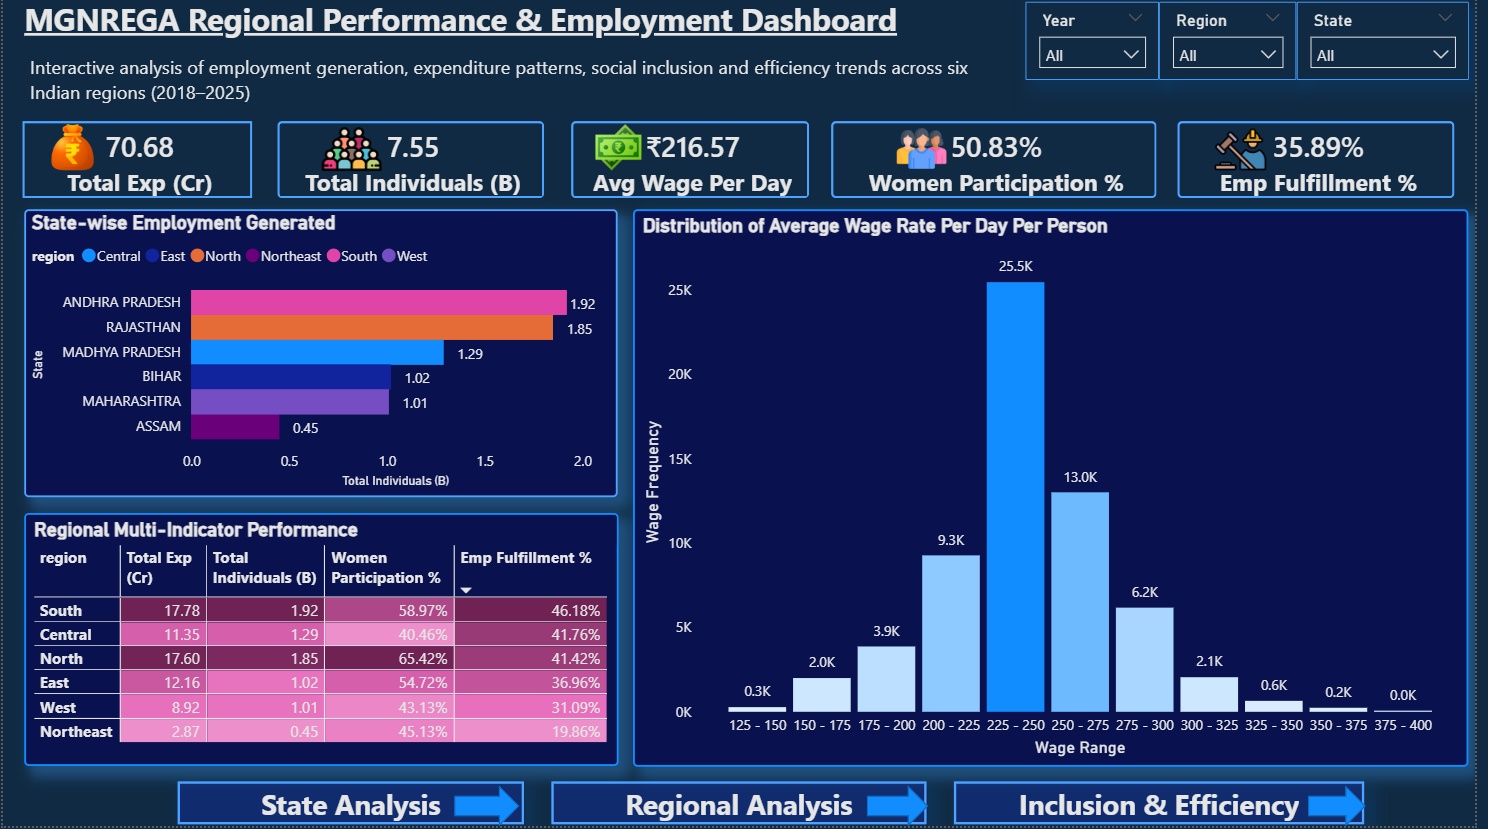

The page's visual inventory and layout, read from the dashboard file:
{"tool":"powerbi","page":{"name":"Main Dashboard","canvas":[1280,720],"ordinal":0},"visuals":[{"type":"cardVisual","fields":{"Data":["mgnrega_state_year_dataset.Total Exp (Cr)"]},"box":[0,90.2,234.8,101.7],"z":0},{"type":"cardVisual","fields":{"Data":["mgnrega_state_year_dataset.Total Individuals (B)"]},"box":[221.2,90.2,266.3,101.7],"z":1000},{"type":"cardVisual","fields":{"Data":["mgnrega_state_year_dataset.Avg Wage"]},"box":[476.7,90,241.7,101.7],"z":2000},{"type":"cardVisual","fields":{"Data":["mgnrega_state_year_dataset.Women Participation %"]},"box":[703.4,90.2,317.6,101.7],"z":3000},{"type":"cardVisual","fields":{"Data":["mgnrega_state_year_dataset.Employment Fulfillment %"]},"box":[1004.3,90.2,275.7,101.7],"z":4000},{"type":"barChart","title":"State-wise Employment Generated","fields":{"Category":["mgnrega_state_year_dataset.state_name"],"Y":["mgnrega_state_year_dataset.Total Individuals (B)"],"Series":["mgnrega_state_year_dataset.region"]},"box":[18,184,516,250],"z":5000},{"type":"slicer","fields":{"Values":["mgnrega_state_year_dataset.year"]},"box":[889,3.1,116.4,68.1],"z":6000},{"type":"slicer","fields":{"Values":["mgnrega_state_year_dataset.region"]},"box":[1005.4,3.1,119.5,68.1],"z":7000},{"type":"slicer","fields":{"Values":["mgnrega_state_year_dataset.state_name"]},"box":[1124.9,3.1,149.9,68.1],"z":8000},{"type":"actionButton","box":[151.4,680.6,302.8,38.9],"z":9000},{"type":"shape","box":[392.1,684.6,56.6,35.6],"z":10000},{"type":"actionButton","box":[476.4,680.6,327.8,38.9],"z":11000},{"type":"shape","box":[750.6,684.6,53.5,35.6],"z":12000},{"type":"actionButton","box":[826.4,680.6,358.3,38.9],"z":13000},{"type":"shape","box":[1134.3,684.6,50.3,35.6],"z":14000},{"type":"pivotTable","title":"Regional Multi-Indicator Performance","fields":{"Rows":["mgnrega_state_year_dataset.region"],"Values":["mgnrega_state_year_dataset.Total Exp (Cr)","mgnrega_state_year_dataset.Total Individuals (B)","mgnrega_state_year_dataset.Women Participation %","mgnrega_state_year_dataset.Emp Fulfillment %"]},"box":[18.3,448.3,516.7,220],"z":15000},{"type":"clusteredColumnChart","title":"Distribution of Average Wage Rate Per Day Per Person","fields":{"Category":["mgnrega_clean_dataset.Wage Range"],"Y":["mgnrega_clean_dataset.Wage Frequency"]},"box":[548.3,183.3,726.7,485],"z":16000},{"type":"image","box":[41.7,110,38.3,40],"z":18000},{"type":"image","box":[511.7,110,46.7,40],"z":19000},{"type":"image","box":[276.7,95,51.7,73.3],"z":20000},{"type":"image","box":[776.7,100,43.3,61.7],"z":20250},{"type":"image","box":[1050,100,51.7,63.3],"z":20500},{"type":"textbox","box":[18.3,43.3,860,56.7],"z":21000},{"type":"textbox","box":[18.3,0,860,53.3],"z":24000}]}

Visuals, with their boxes in screenshot pixels (x1, y1, x2, y2), scaled from the page's 1280x720 canvas onto the 1488x829 screenshot:
cardVisual - mgnrega_state_year_dataset.Total Exp (Cr): 0 104 273 221
cardVisual - mgnrega_state_year_dataset.Total Individuals (B): 257 104 567 221
cardVisual - mgnrega_state_year_dataset.Avg Wage: 554 104 835 221
cardVisual - mgnrega_state_year_dataset.Women Participation %: 818 104 1187 221
cardVisual - mgnrega_state_year_dataset.Employment Fulfillment %: 1167 104 1487 221
"State-wise Employment Generated" barChart: 21 212 621 500
slicer - mgnrega_state_year_dataset.year: 1033 4 1169 82
slicer - mgnrega_state_year_dataset.region: 1169 4 1308 82
slicer - mgnrega_state_year_dataset.state_name: 1308 4 1482 82
actionButton: 176 784 528 828
shape: 456 788 522 828
actionButton: 554 784 935 828
shape: 873 788 935 828
actionButton: 961 784 1377 828
shape: 1319 788 1377 828
"Regional Multi-Indicator Performance" pivotTable: 21 516 622 769
"Distribution of Average Wage Rate Per Day Per Person" clusteredColumnChart: 637 211 1482 769
image: 48 127 93 173
image: 595 127 649 173
image: 322 109 382 194
image: 903 115 953 186
image: 1221 115 1281 188
textbox: 21 50 1021 115
textbox: 21 0 1021 61
